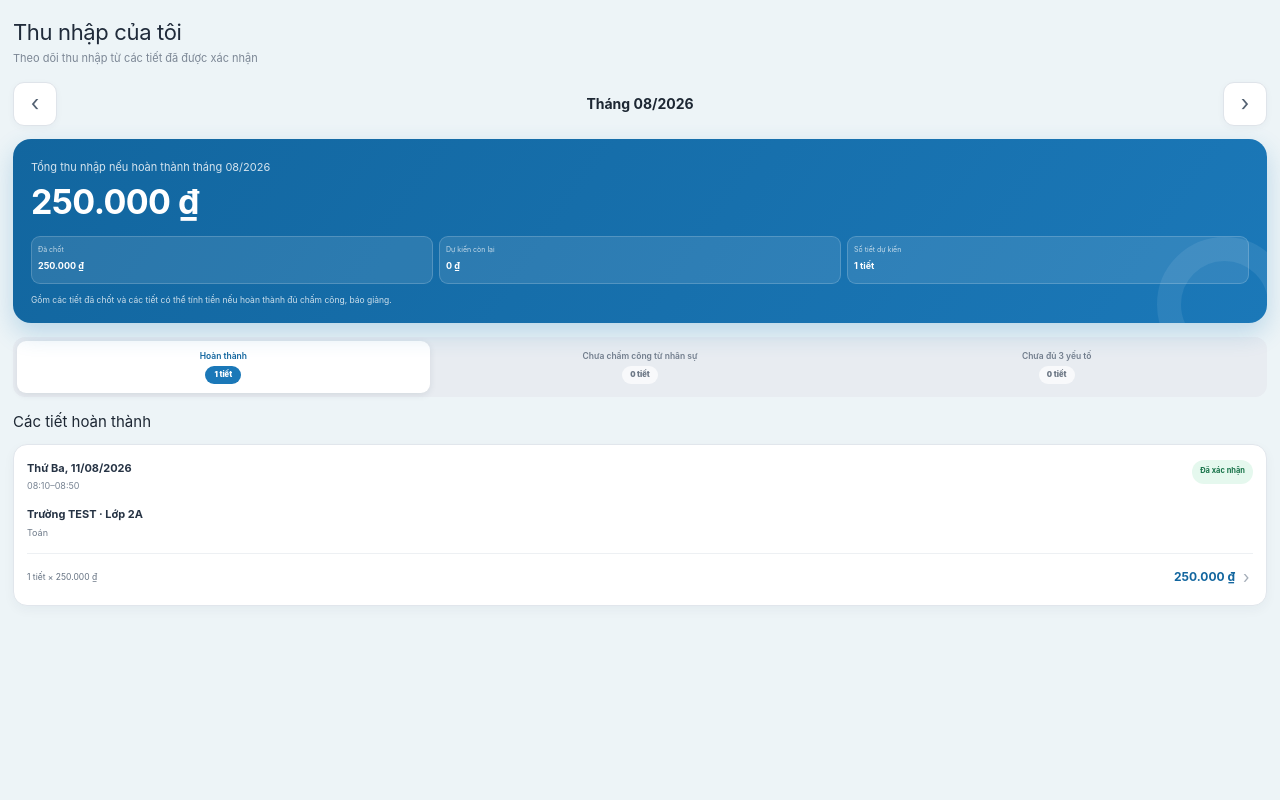
Test case: TeacherIncomeScreen › mở bottom sheet với dữ liệu chấm công và bài học
Click the button with aria-label "Xem chi tiết thu nhập ngày 11/08/2026" at point(640, 525), box [13, 444, 1267, 606]
(page scrolled)
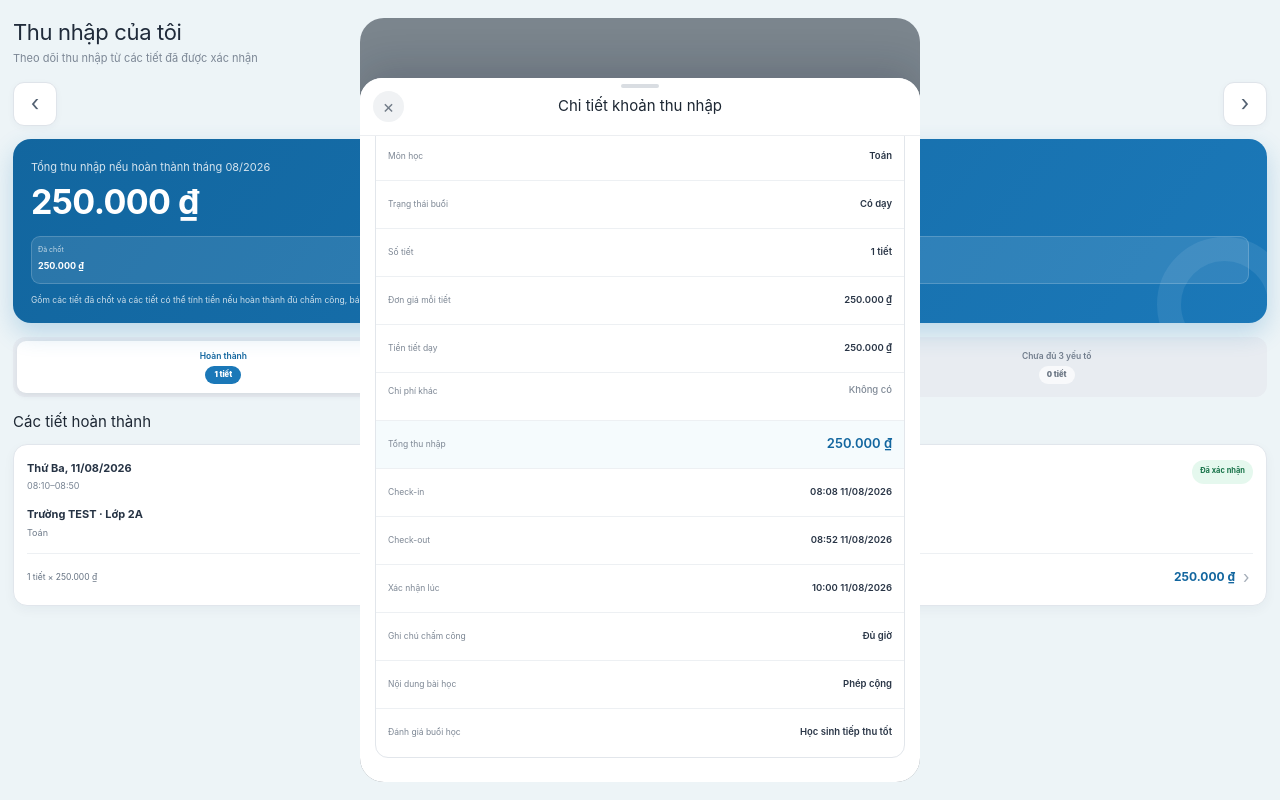
Check: the dialog "Chi tiết khoản thu nhập" is shown, box [360, 78, 920, 782]
Check: the text "Đủ giờ" is shown, box [862, 630, 892, 641]
Check: the text "Phép cộng" is shown, box [843, 678, 892, 689]
